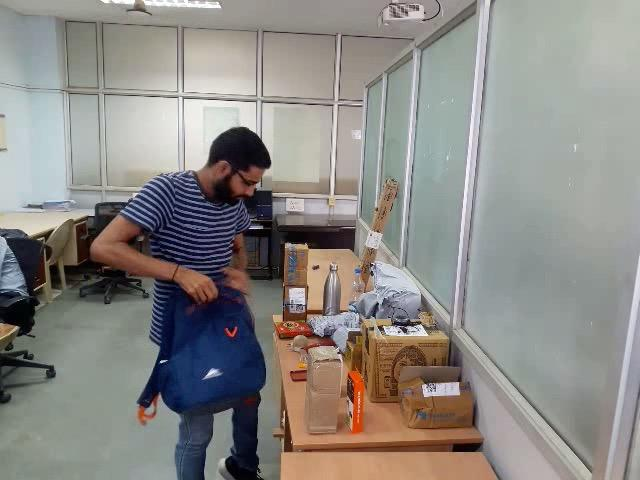shoplifting: (122, 251, 279, 433)
